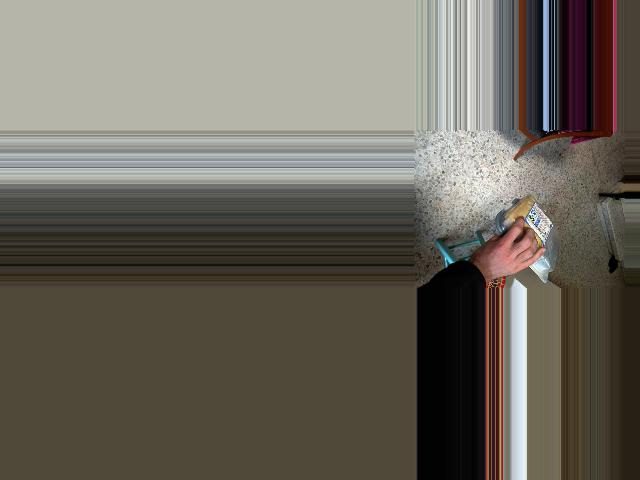cheese: (511, 184, 554, 283)
